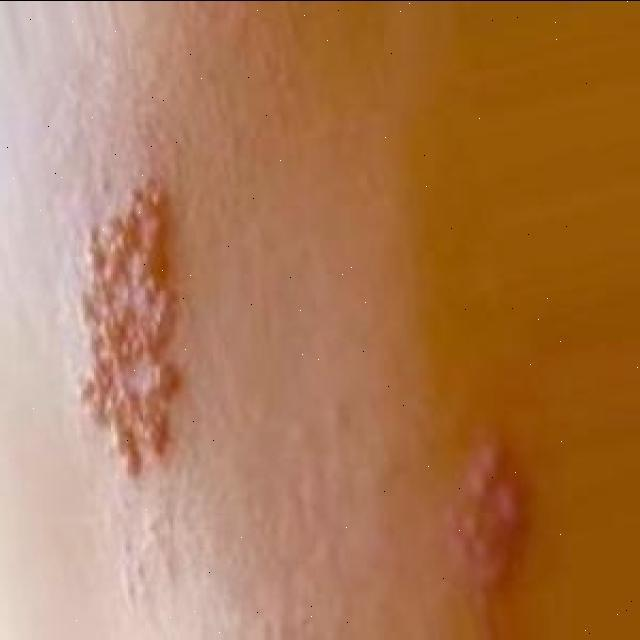Shingles: (76, 175, 183, 477), (453, 438, 535, 610)
